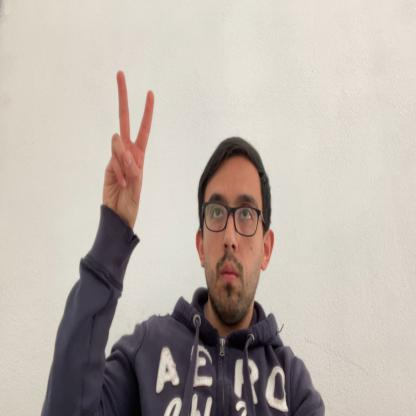V: (102, 71, 154, 228)
